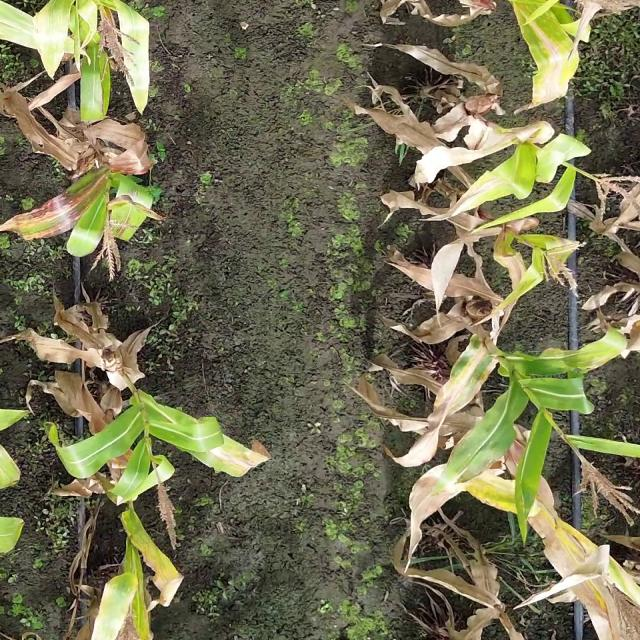gray-leaf-spot: (38, 8, 71, 58), (547, 346, 610, 372)
northern-leaf-blight: (526, 15, 570, 104), (193, 430, 264, 474), (448, 342, 489, 412), (34, 190, 97, 235), (462, 166, 527, 208)
southern-leaf-blight: (460, 434, 504, 467), (104, 583, 130, 624)
